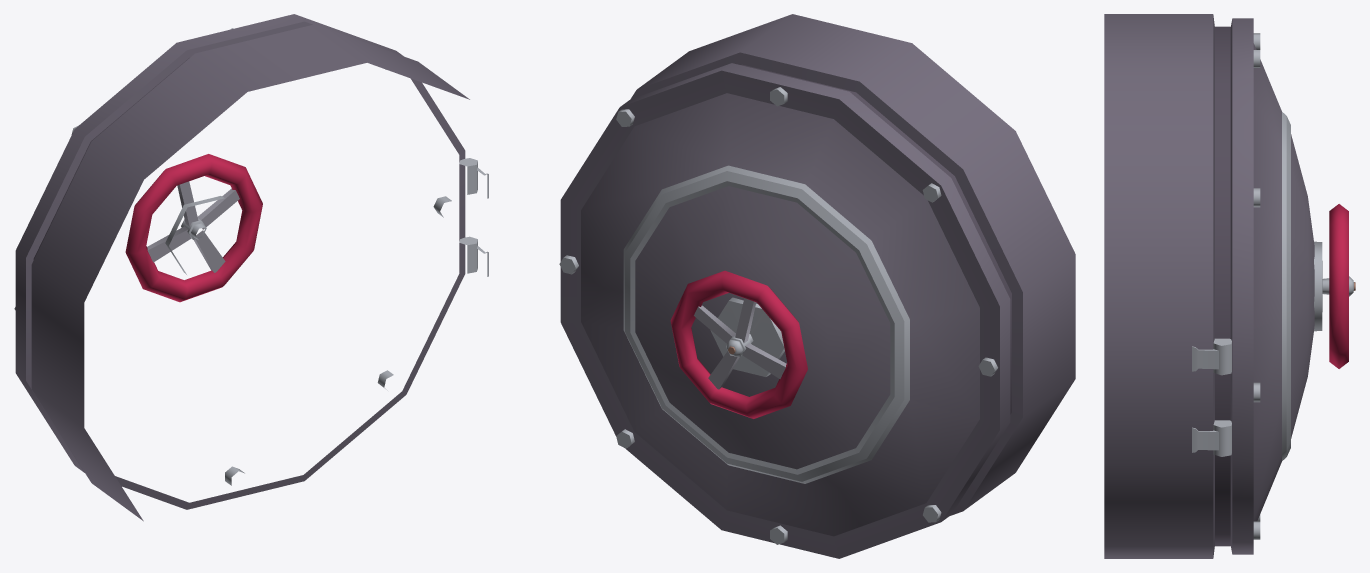
Rendered from prop-round_vault_door.glb.
3 renders of one model, left to right at view 1: azimuth 30°, elevation 25°; view 2: azimuth 150°, elevation 25°; view 3: azimuth 270°, elevation 25°, orthographic. The views are drawn at different scales.
Visible parts, largest first — view 1: prop-round_vault_door; view 2: prop-round_vault_door; view 3: prop-round_vault_door.
Boxes of the visible parts, box(x1,y1,x2,y2) form: prop-round_vault_door: box(14, 14, 488, 521); prop-round_vault_door: box(559, 14, 1075, 558); prop-round_vault_door: box(1104, 14, 1355, 558).
Bounding box in the file's own units: 3.39 × 3.36 × 1.58.
